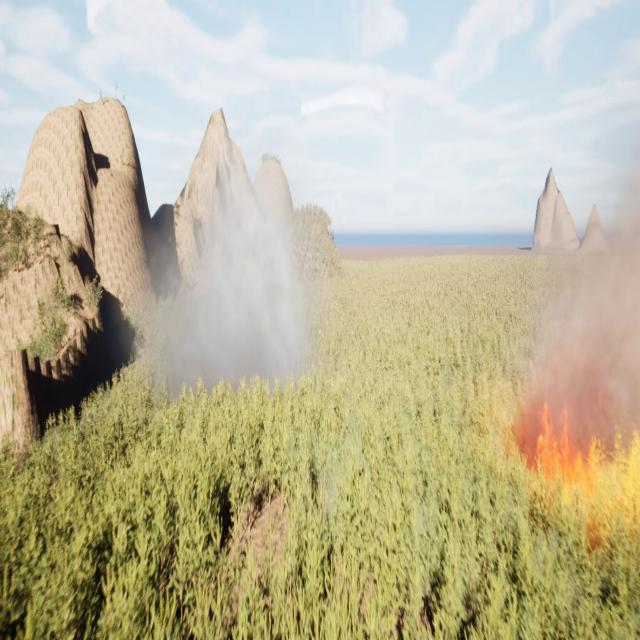fire: (534, 397, 587, 472)
smoke: (512, 164, 640, 476), (142, 175, 316, 390)
